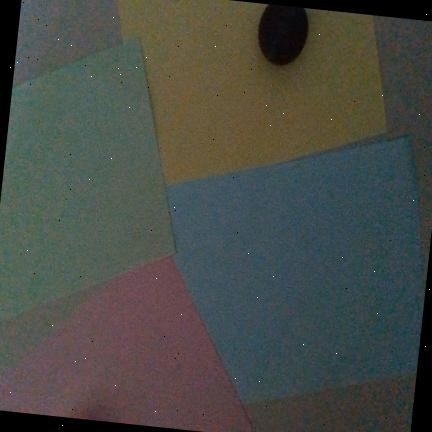Esfera: (258, 5, 308, 66)
